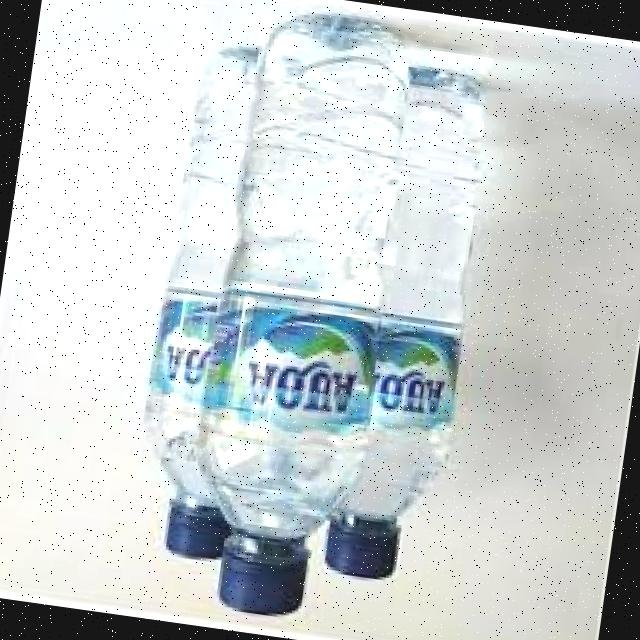bottle: (169, 0, 450, 637), (327, 16, 516, 608), (113, 36, 308, 579)
cap: (212, 538, 318, 624), (323, 512, 401, 584), (160, 499, 231, 566)
